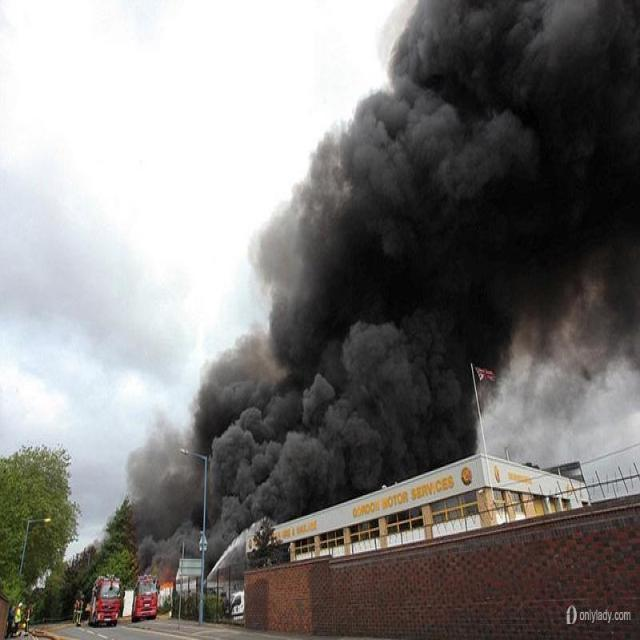Smoke: (85, 0, 640, 588)
